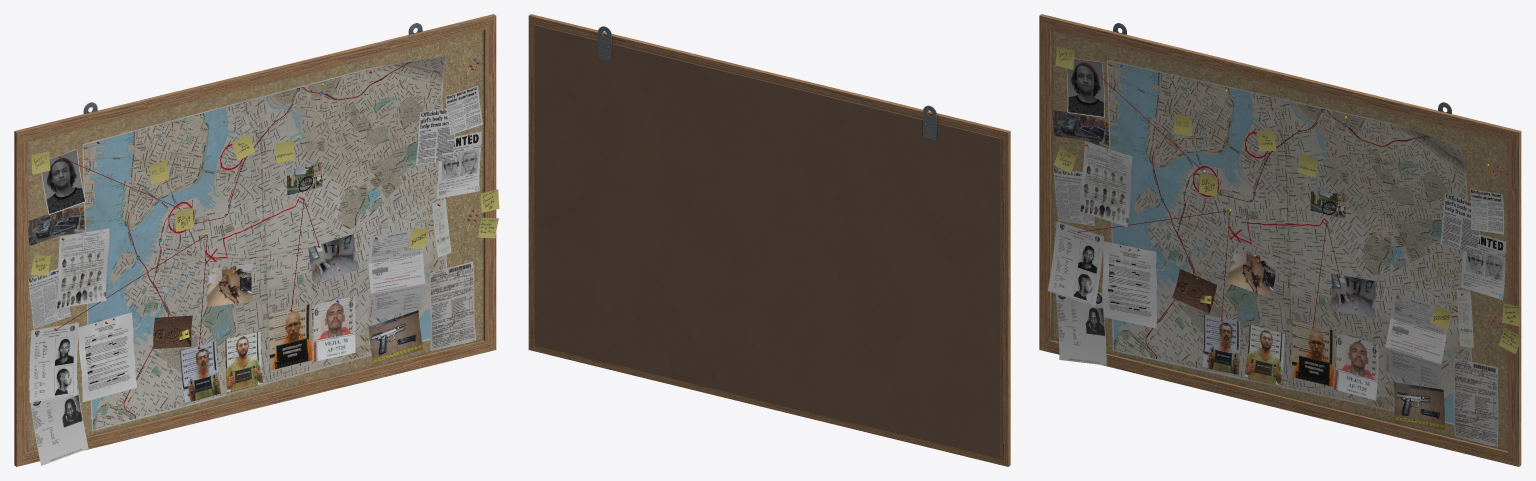
Rendered from detectivePinboard_fbx_2014.FBXB2866668-3459-432C-9D26-5629E3510689.fbx.
3 renders of one model, left to right at view 1: azimuth 30°, elevation 25°; view 2: azimuth 150°, elevation 25°; view 3: azimuth 330°, elevation 25°, orthographic.
Parts seen in each view (by area): view 1: paper, pinboard; view 2: pinboard; view 3: paper, pinboard.
Part boxes in pixels (box(x1,y1,x2,y2)): paper: box(27, 55, 499, 465); pinboard: box(14, 14, 496, 466); pinboard: box(528, 14, 1010, 466); paper: box(1048, 46, 1521, 447); pinboard: box(1039, 14, 1521, 466).
Size of the model in its own units: 1.69 by 1.16 by 0.0493.
